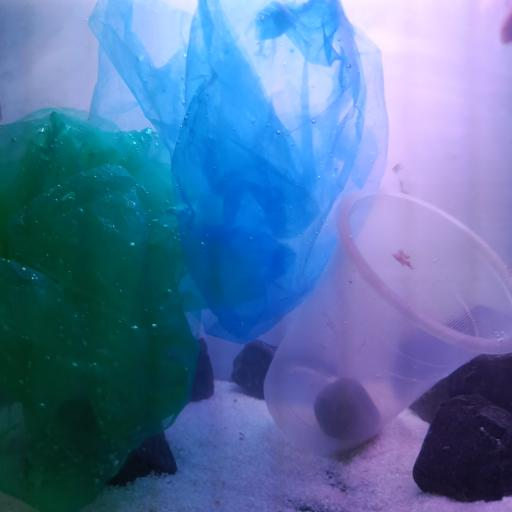plastic_bag: (85, 0, 379, 340), (3, 103, 202, 512)
plastic_cup: (261, 188, 512, 455)
